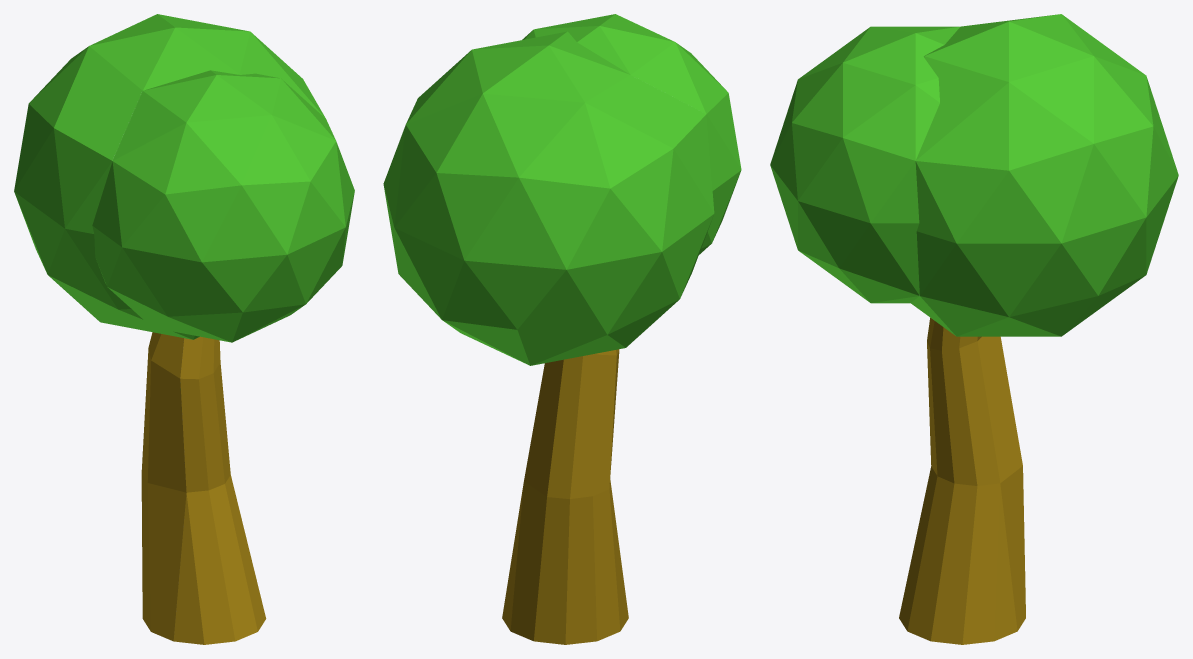
File: arbre2.obj
3 views of the same model, side by side, from view 1: azimuth 30°, elevation 25°; view 2: azimuth 150°, elevation 25°; view 3: azimuth 270°, elevation 25° (orthographic). The views are drawn at different scales.
Visible parts, largest first — view 1: Cylinder_Cylinder.004; view 2: Cylinder_Cylinder.004; view 3: Cylinder_Cylinder.004.
Boxes of the visible parts, left/top/right/bottom form: Cylinder_Cylinder.004: left=14, top=14, right=354, bottom=644; Cylinder_Cylinder.004: left=383, top=14, right=741, bottom=644; Cylinder_Cylinder.004: left=770, top=14, right=1178, bottom=644.
Size of the model in its own units: 3.99 by 8.1 by 5.06.
Materials: 1 (1 with a texture image).
